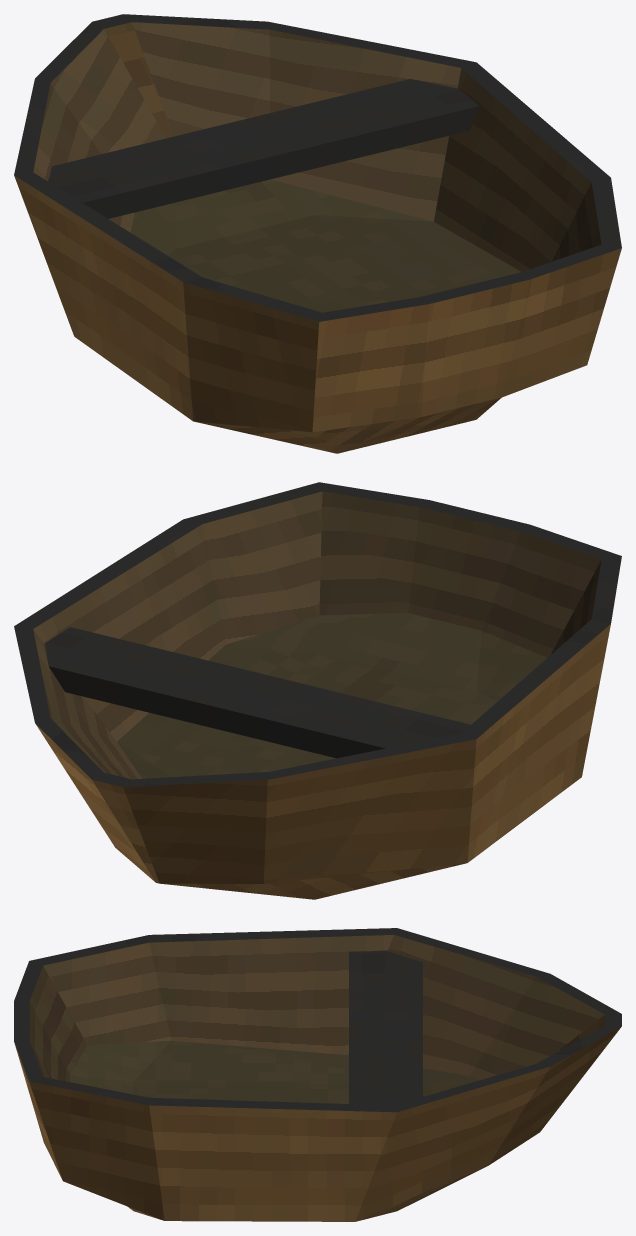
The model's file is Boat_Boat.glb.
3 renders of one model, top to bottom at view 1: azimuth 30°, elevation 25°; view 2: azimuth 150°, elevation 25°; view 3: azimuth 270°, elevation 25°, orthographic. The views are drawn at different scales.
Visible parts, largest first — view 1: Boat; view 2: Boat; view 3: Boat.
Part boxes in pixels (box(x1,y1,x2,y2)): Boat: box(14, 14, 621, 453); Boat: box(14, 482, 621, 899); Boat: box(14, 928, 621, 1221).
Size of the model in its own units: 1.28 by 0.5279 by 1.78.
1 material, 1 textured.
